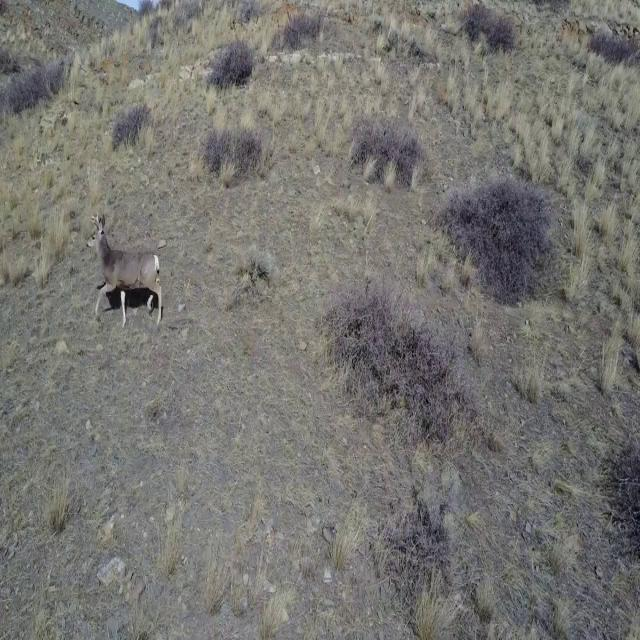Deer: (84, 207, 164, 332)
